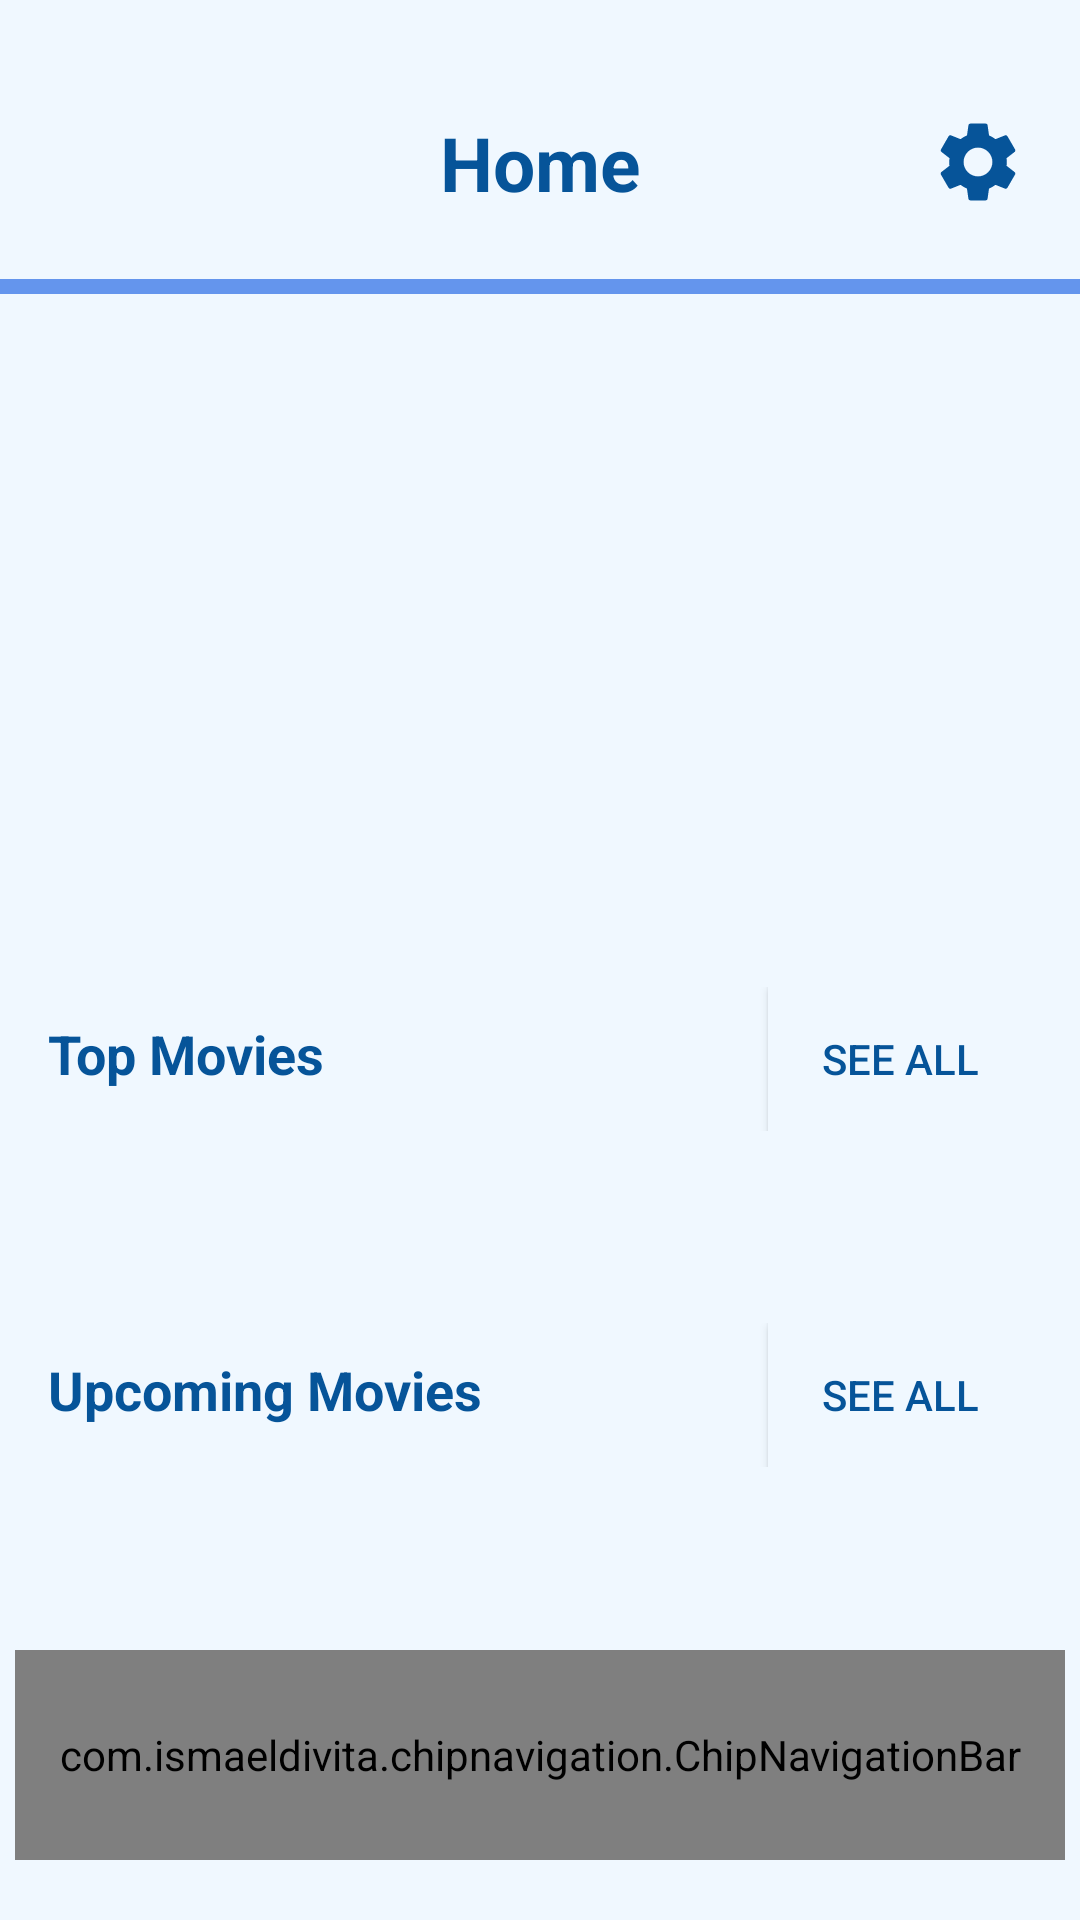

Named icons in this screenshot (1080 × 1920) and their centers, [x,y]:
Settings: [978,162]
